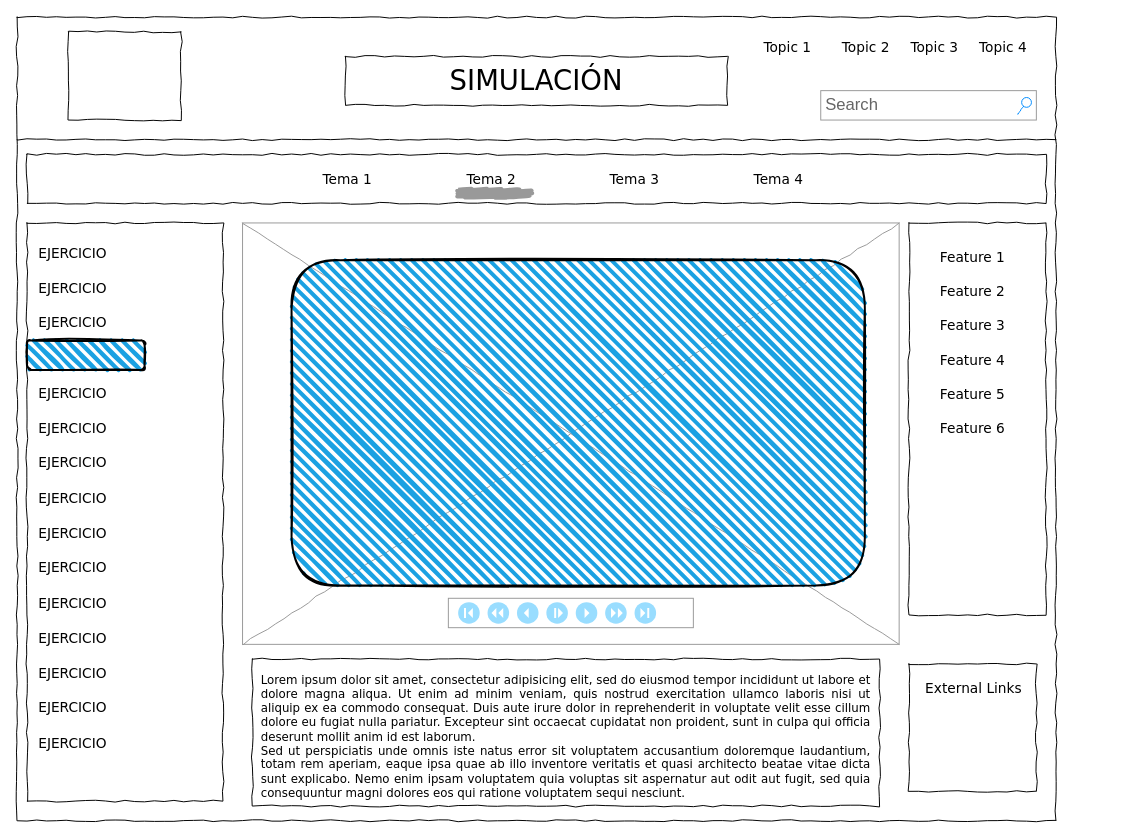
Image size: 1122x838. Some labels were removed from this diagram. The centre of each missing label's shape, as x and y in pixels:
"EJERCICIO 4" goes at (85,354).
"LOGO" goes at (124,75).
